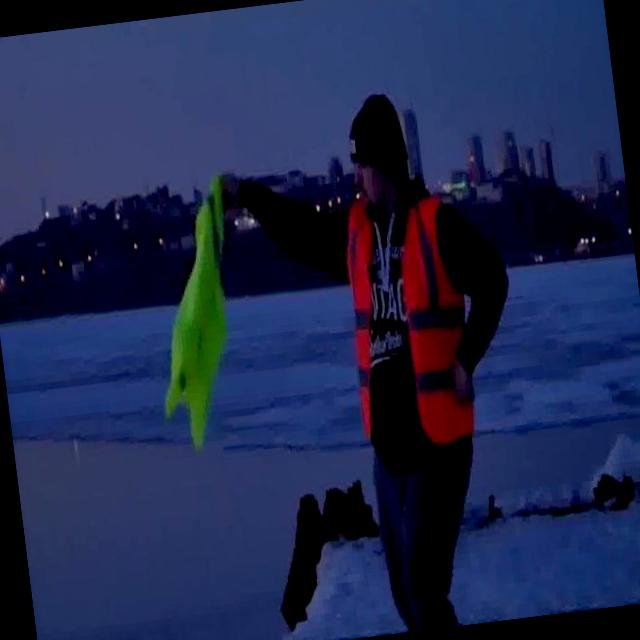vest: (334, 188, 480, 455), (133, 166, 260, 462)
